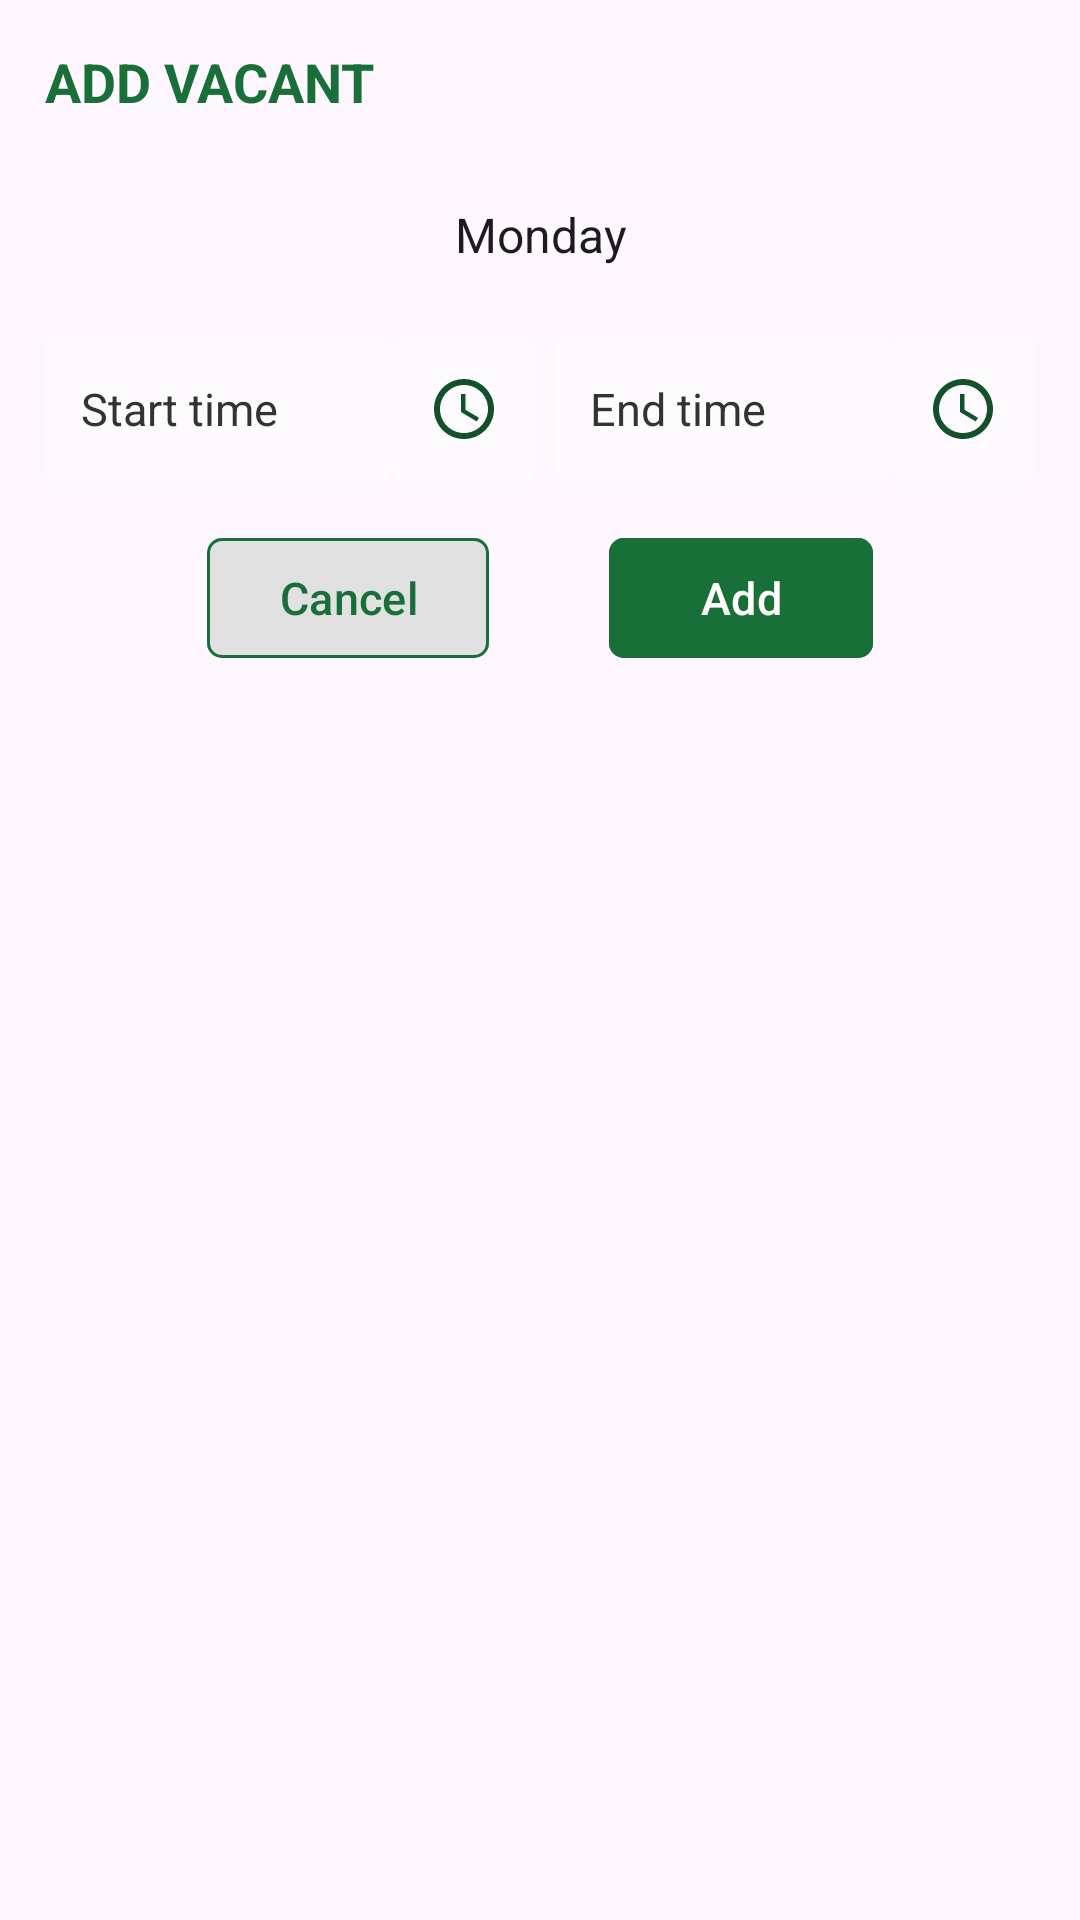

Named icons in this screenshot (1080w x 1920h) and their centers, (x=x, y=y):
Time picker: (x=464, y=409), (x=963, y=409)
